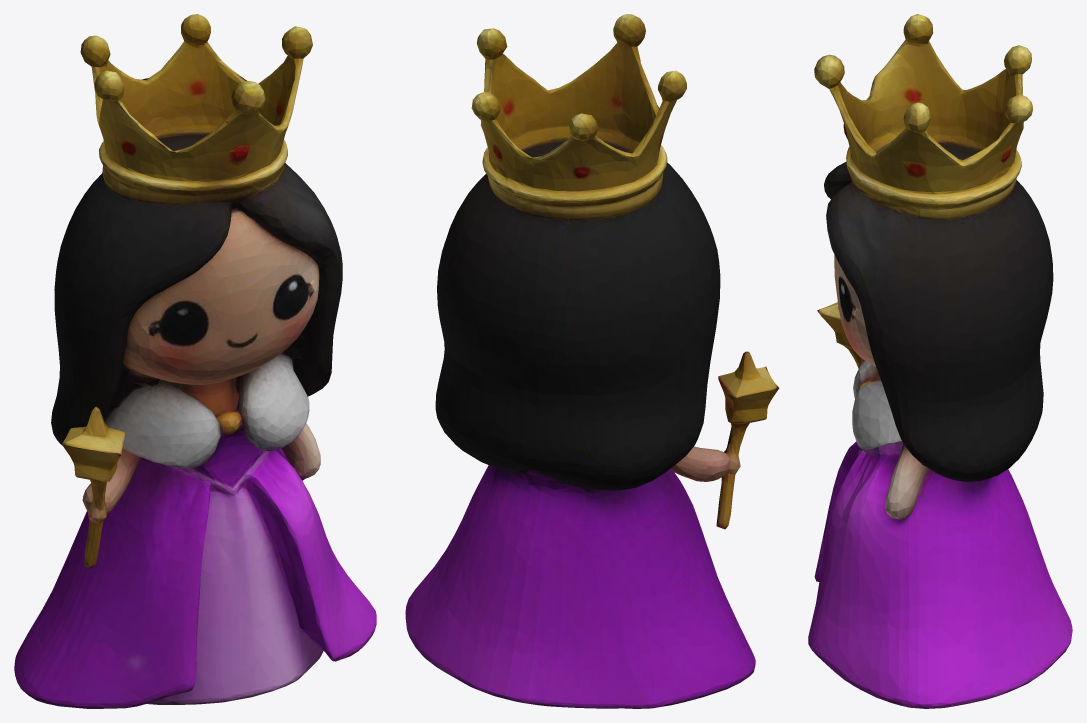
The model's file is queen.glb.
The picture shows the model from 3 angles, left to right: view 1: azimuth 30°, elevation 25°; view 2: azimuth 150°, elevation 25°; view 3: azimuth 270°, elevation 25°; orthographic projection. The views are drawn at different scales.
Parts seen in each view (by area): view 1: geometry_0; view 2: geometry_0; view 3: geometry_0.
Boxes of the visible parts, bbox=[...] form: geometry_0: bbox=[14, 14, 376, 708]; geometry_0: bbox=[405, 14, 779, 708]; geometry_0: bbox=[808, 14, 1072, 708].
Bounding box in the file's own units: 0.5879 × 1 × 0.4142.
1 material, 1 textured.
